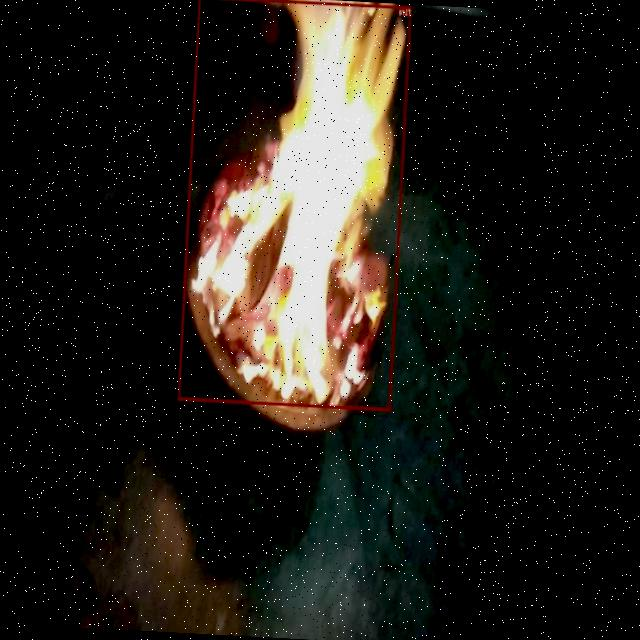fire: (178, 0, 411, 411)
